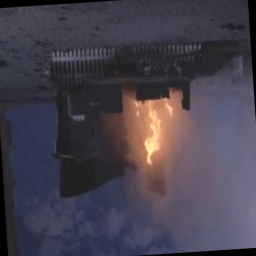fire: (122, 85, 184, 169)
smoke: (143, 151, 256, 255)
